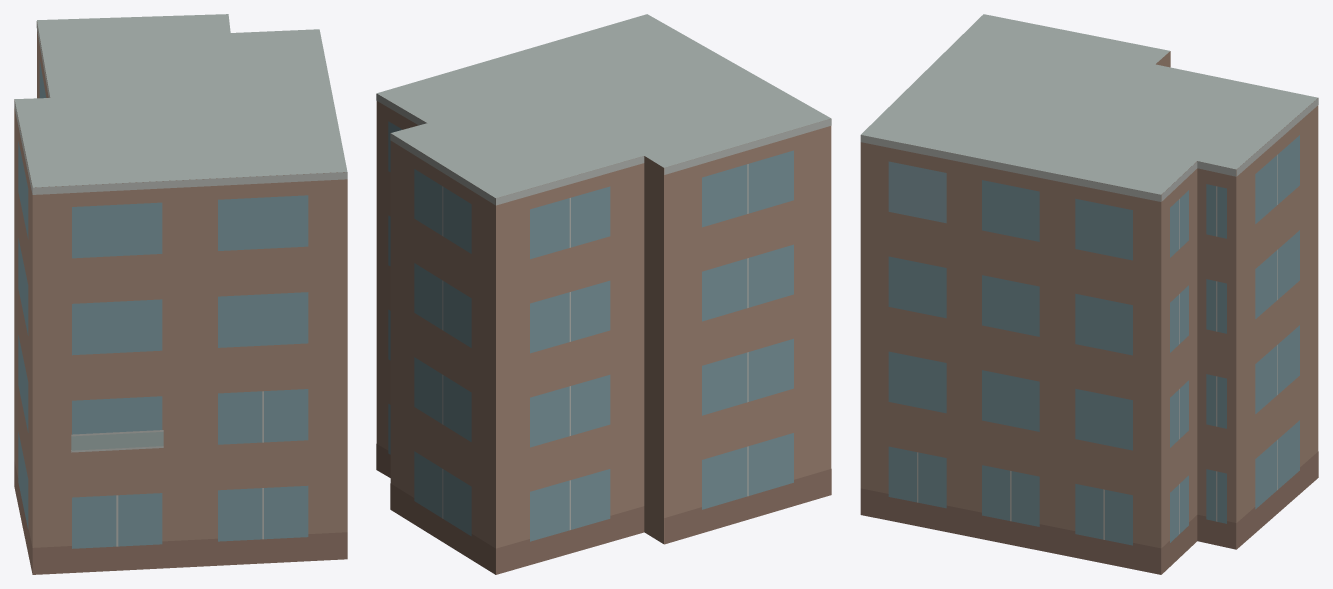
Rendered from survey-upis-32632725.glb.
3 views of the same model, side by side, from view 1: azimuth 30°, elevation 25°; view 2: azimuth 150°, elevation 25°; view 3: azimuth 270°, elevation 25° (orthographic). The views are drawn at different scales.
Parts seen in each view (by area): view 1: survey-upis-32632725.tmp; view 2: survey-upis-32632725.tmp; view 3: survey-upis-32632725.tmp.
Part boxes in pixels (<box>): survey-upis-32632725.tmp: <box>14,14,347,574</box>; survey-upis-32632725.tmp: <box>376,14,831,574</box>; survey-upis-32632725.tmp: <box>860,14,1318,574</box>.
Bounding box in the file's own units: 12.96 × 12.7 × 13.87.
